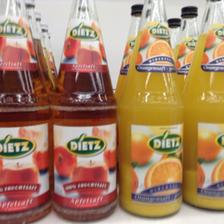juice: (49, 1, 120, 221), (118, 1, 186, 218), (1, 1, 51, 224), (182, 1, 224, 210)
